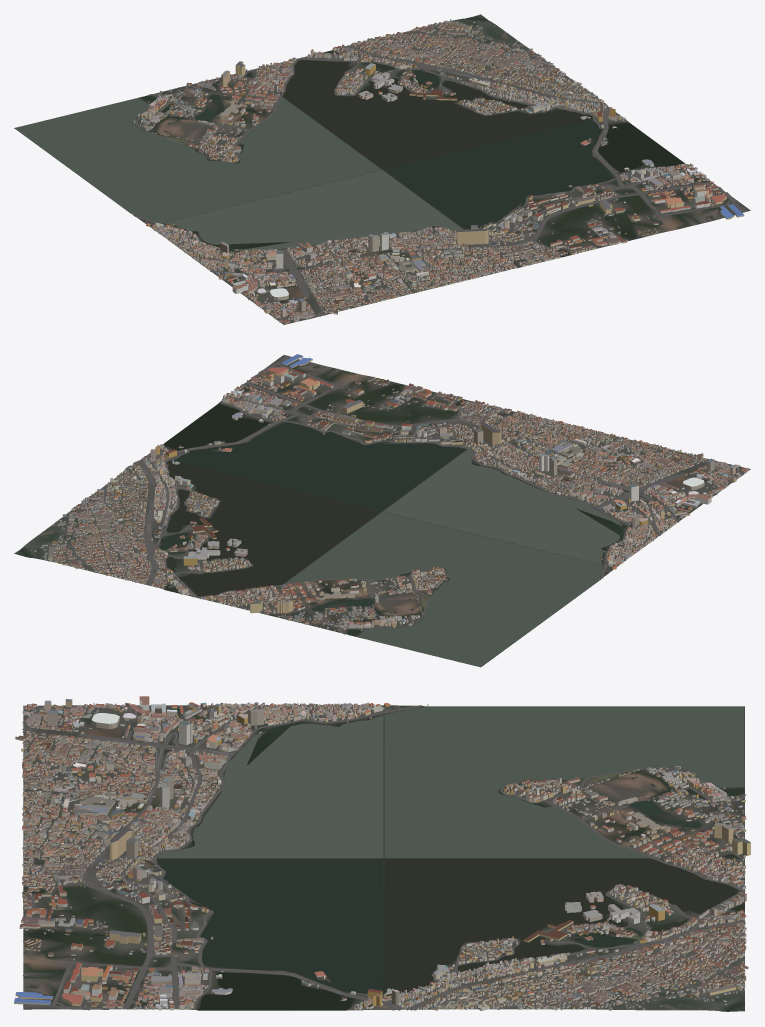
The picture shows the model from 3 angles, top to bottom: view 1: azimuth 30°, elevation 25°; view 2: azimuth 150°, elevation 25°; view 3: azimuth 270°, elevation 25°; orthographic projection. The views are drawn at different scales.
Parts seen in each view (by area): view 1: water, buildings, ground, roads; view 2: water, buildings, ground, roads; view 3: water, buildings, ground, roads.
Boxes of the visible parts, <box> form: water: <box>14,17,734,267</box>; buildings: <box>132,19,744,324</box>; ground: <box>14,14,750,324</box>; roads: <box>134,25,746,320</box>; water: <box>20,359,621,666</box>; buildings: <box>30,354,749,631</box>; ground: <box>14,355,750,667</box>; roads: <box>46,356,745,634</box>; water: <box>23,706,744,1011</box>; buildings: <box>14,696,750,1010</box>; ground: <box>23,705,744,1011</box>; roads: <box>22,704,745,1010</box>.
Size of the model in its own units: 2839 by 96.3 by 2863.
